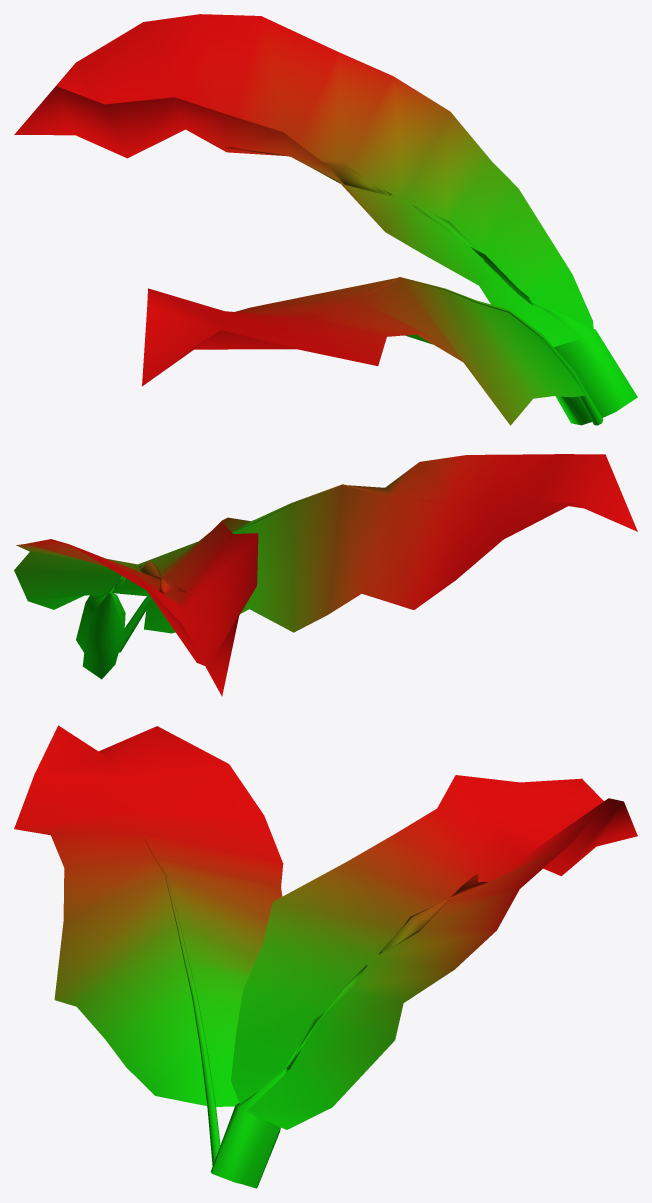
Rendered from Lady Fern_LOD2_Var11_wdvlditia.fbx.
The picture shows the model from 3 angles, top to bottom: view 1: azimuth 30°, elevation 25°; view 2: azimuth 150°, elevation 25°; view 3: azimuth 270°, elevation 25°; orthographic projection. The views are drawn at different scales.
Visible parts, largest first — view 1: _8im7_Var11_LOD2; view 2: _8im7_Var11_LOD2; view 3: _8im7_Var11_LOD2.
Boxes of the visible parts, x1,y1,x2,y2 form: _8im7_Var11_LOD2: (14,14,637,425); _8im7_Var11_LOD2: (14,454,637,696); _8im7_Var11_LOD2: (14,725,637,1188).
Size of the model in its own units: 41.49 by 22.5 by 44.26.
